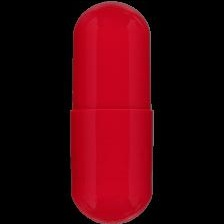54868-5841: (0, 0, 224, 224)
